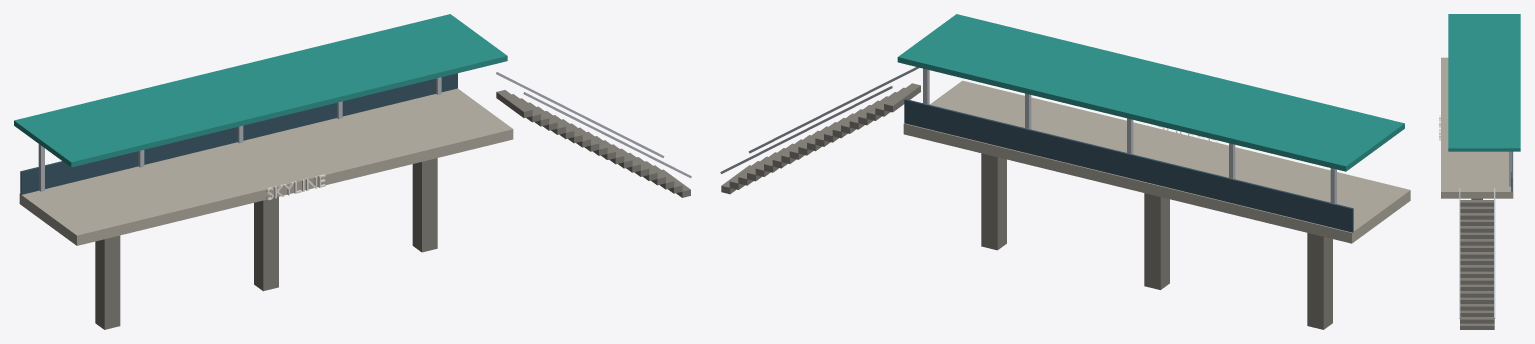
The model's file is station.glb.
3 views of the same model, side by side, from view 1: azimuth 30°, elevation 25°; view 2: azimuth 150°, elevation 25°; view 3: azimuth 270°, elevation 25° (orthographic). The views are drawn at different scales.
Visible parts, largest first — view 1: station; view 2: station; view 3: station.
Part boxes in pixels (x1,y1,x2,y2): station: [14, 14, 691, 329]; station: [720, 14, 1410, 329]; station: [1439, 14, 1520, 329].
Size of what is drawn, in the model's own units: 31.73 by 9.32 by 5.62.
